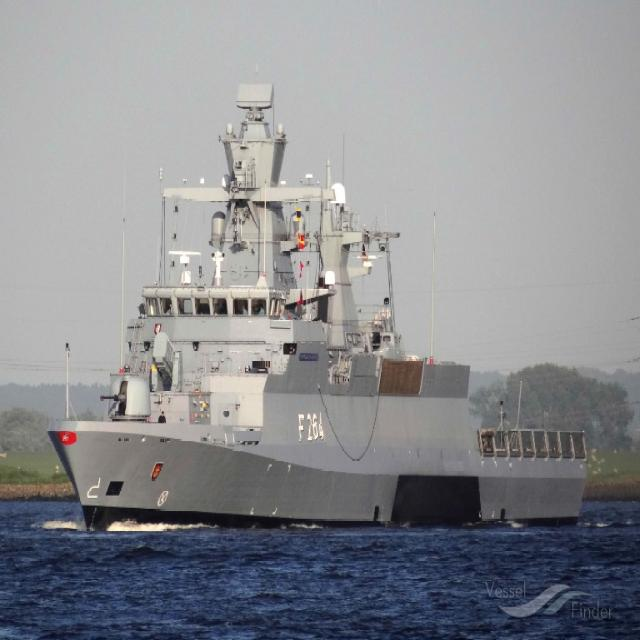OCR: (290, 406, 330, 456)
